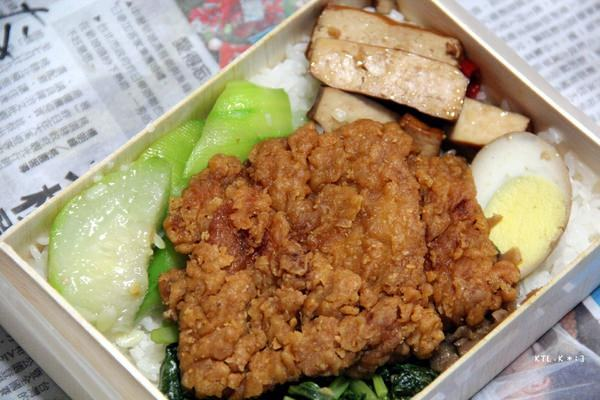fried_chicken: (173, 137, 465, 369)
